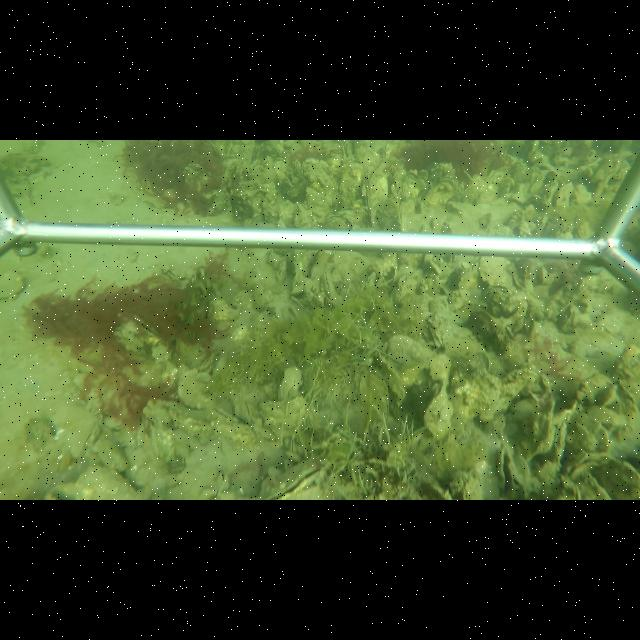Oyster-Closed: (204, 407, 258, 452), (465, 310, 510, 358), (59, 416, 104, 462), (369, 194, 402, 234), (320, 269, 338, 306), (276, 259, 288, 284)
Oyster-Open: (257, 457, 328, 499), (498, 439, 516, 499)
